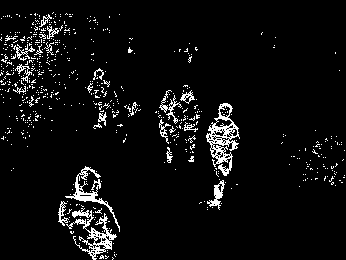person: (57, 157, 122, 260), (207, 101, 239, 216), (156, 89, 183, 168), (181, 85, 204, 173), (86, 68, 114, 134)
